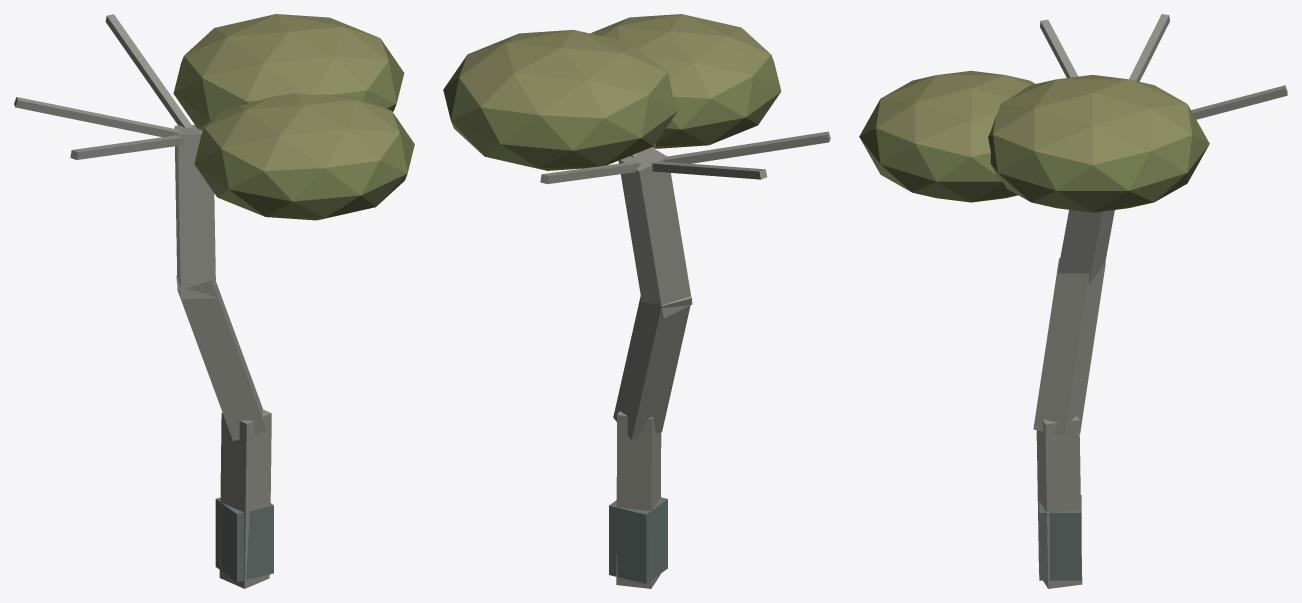
File: SM_Pino_v4_LOD0.fbx
The picture shows the model from 3 angles, left to right: view 1: azimuth 30°, elevation 25°; view 2: azimuth 150°, elevation 25°; view 3: azimuth 270°, elevation 25°; orthographic projection. The views are drawn at different scales.
Parts seen in each view (by area): view 1: SM_pino_v4_LOD0; view 2: SM_pino_v4_LOD0; view 3: SM_pino_v4_LOD0.
Part boxes in pixels (x1,y1,x2,y2): SM_pino_v4_LOD0: (14, 14, 414, 588); SM_pino_v4_LOD0: (443, 14, 830, 588); SM_pino_v4_LOD0: (859, 14, 1287, 588).
Size of the model in its own units: 5.2 by 7.63 by 5.74.
